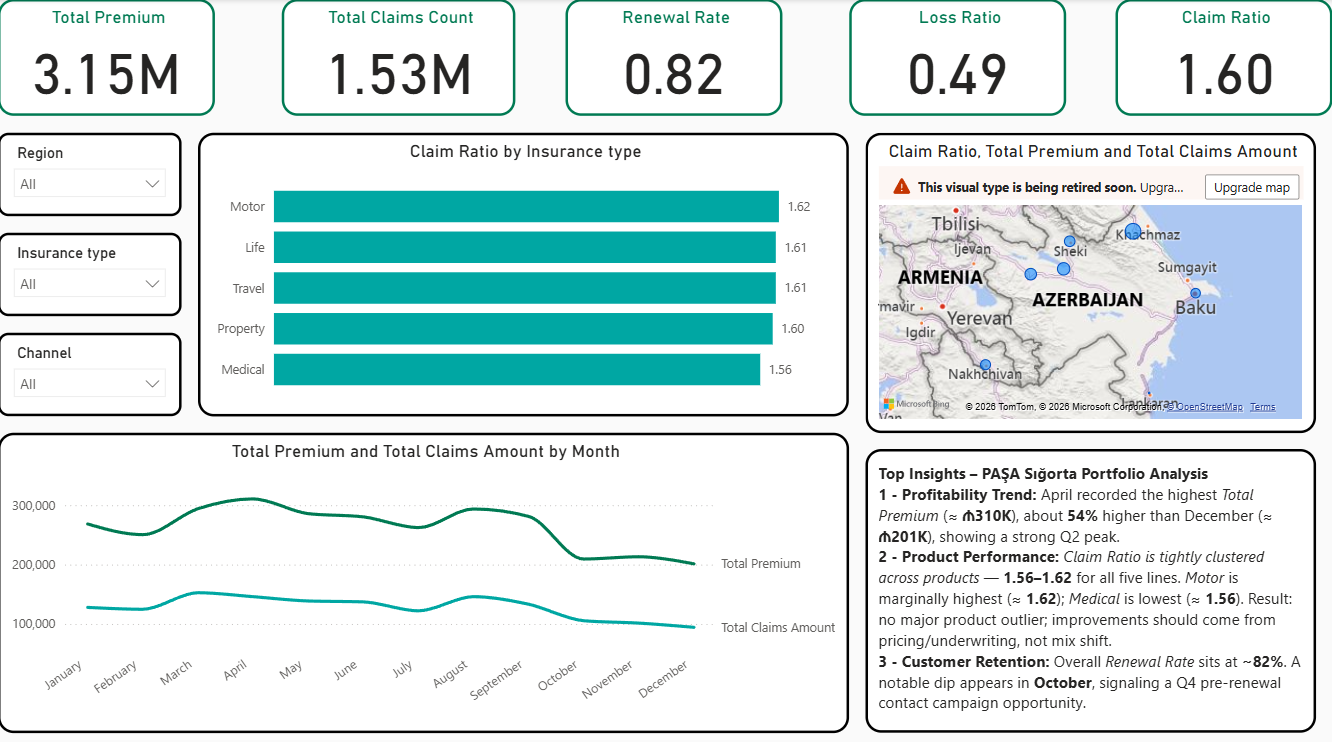

The dashboard page shown, as its layout file describes it:
{"tool":"powerbi","page":{"name":"Executive Overview","canvas":[1280,720],"ordinal":0},"visuals":[{"type":"card","title":"Total Premium","fields":{"Values":["Measures (2).Total Premium"]},"box":[0,0,208,112],"z":0},{"type":"card","title":"Total Claims Count","fields":{"Values":["Measures (2).Total Claims Amount"]},"box":[272,0,224,112],"z":1000},{"type":"card","title":"Loss Ratio","fields":{"Values":["Measures (2).Loss Ratio"]},"box":[816,0,208,112],"z":2000},{"type":"card","title":"Claim Ratio","fields":{"Values":["Measures (2).Claim Ratio"]},"box":[1072,0,208,112],"z":3000},{"type":"card","title":"Renewal Rate","fields":{"Values":["Measures (2).Renewal Rate"]},"box":[544,0,208,112],"z":4000},{"type":"lineChart","fields":{"Y":["Measures (2).Total Premium","Measures (2).Total Claims Amount"],"Category":["Date.Date.Variation.Date Hierarchy.Month"]},"box":[0,416,816,288],"z":5000},{"type":"clusteredBarChart","title":"Claim Ratio by Insurance type","fields":{"Category":["policies.insurance_type"],"Y":["Measures (2).Claim Ratio"]},"box":[192,128,624,272],"z":6000},{"type":"map","title":"Claim Ratio, Total Premium and Total Claims Amount","fields":{"Size":["Measures (2).Claim Ratio"],"Category":["customers.Region_"]},"box":[832,128,432,288],"z":7000},{"type":"slicer","fields":{"Values":["customers.region"]},"box":[0,128,176,80],"z":8000},{"type":"slicer","fields":{"Values":["policies.insurance_type"]},"box":[0,224,176,80],"z":9000},{"type":"slicer","fields":{"Values":["policies.channel"]},"box":[0,320,176,80],"z":10000},{"type":"textbox","box":[832,432,432,272],"z":11000}]}

Visuals, with their boxes in screenshot pixels (x1, y1, x2, y2), scaled from the page's 1280x720 canvas onto the 1332x742 screenshot:
"Total Premium" card: (x1=0, y1=0, x2=216, y2=115)
"Total Claims Count" card: (x1=283, y1=0, x2=516, y2=115)
"Loss Ratio" card: (x1=849, y1=0, x2=1066, y2=115)
"Claim Ratio" card: (x1=1116, y1=0, x2=1331, y2=115)
"Renewal Rate" card: (x1=566, y1=0, x2=783, y2=115)
lineChart - Measures (2).Total Premium x Measures (2).Total Claims Amount: (x1=0, y1=429, x2=849, y2=726)
"Claim Ratio by Insurance type" clusteredBarChart: (x1=200, y1=132, x2=849, y2=412)
"Claim Ratio, Total Premium and Total Claims Amount" map: (x1=866, y1=132, x2=1315, y2=429)
slicer - customers.region: (x1=0, y1=132, x2=183, y2=214)
slicer - policies.insurance_type: (x1=0, y1=231, x2=183, y2=313)
slicer - policies.channel: (x1=0, y1=330, x2=183, y2=412)
textbox: (x1=866, y1=445, x2=1315, y2=726)
